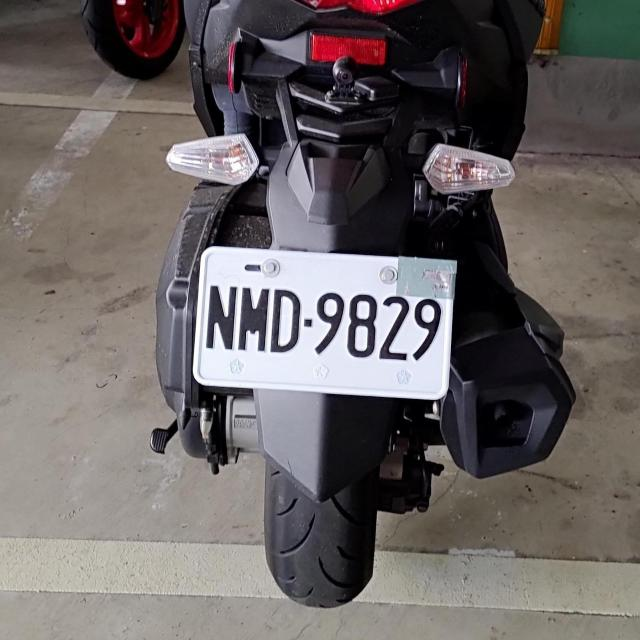W: (192, 240, 453, 398)
